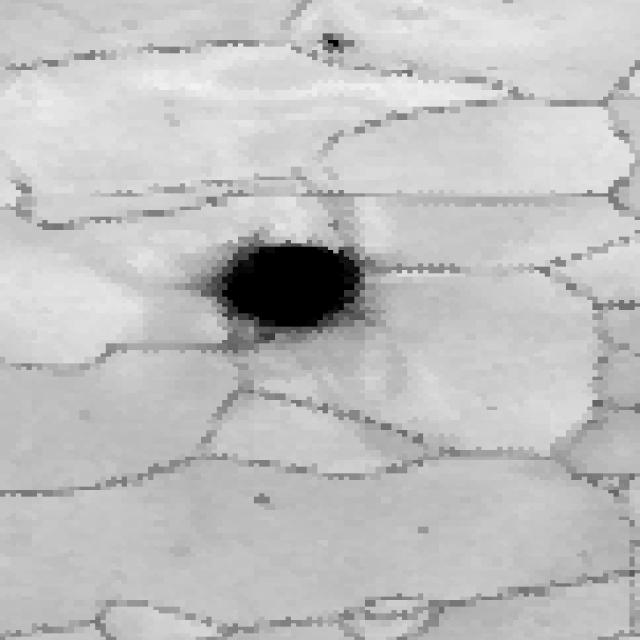good_void: (161, 216, 391, 380), (305, 28, 367, 56), (240, 487, 286, 513), (411, 519, 439, 543), (319, 217, 348, 233)
